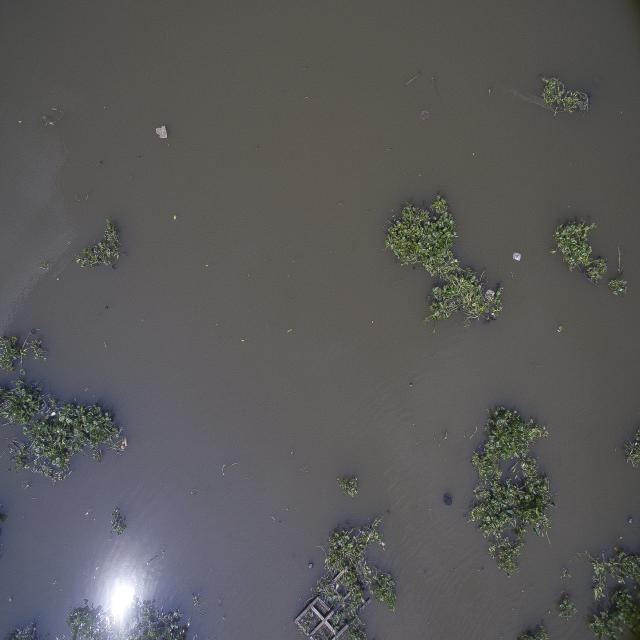plastic: (153, 125, 172, 147), (484, 285, 498, 306), (514, 250, 526, 268)
